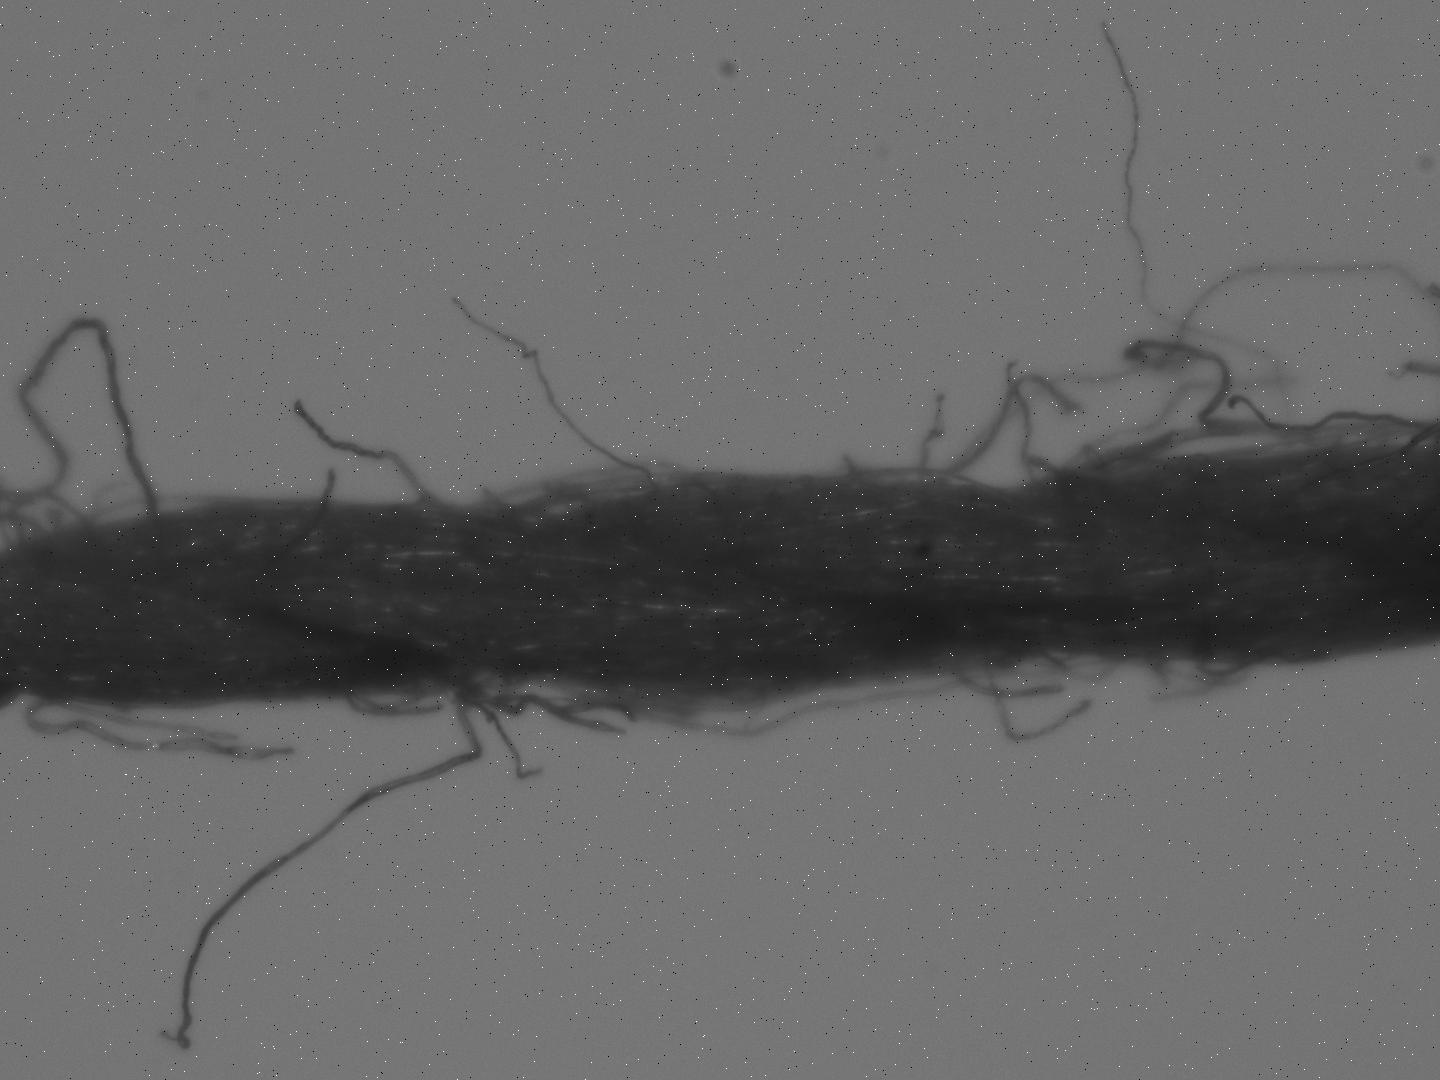loop_fiber: (852, 261, 1439, 481), (469, 643, 1125, 746), (2, 315, 160, 551), (334, 690, 447, 716)
protruding_fiber: (146, 689, 482, 1051), (1095, 23, 1306, 453), (455, 292, 659, 488), (23, 689, 302, 765), (287, 400, 449, 516), (983, 657, 1098, 753), (459, 687, 551, 788), (312, 469, 337, 508)
